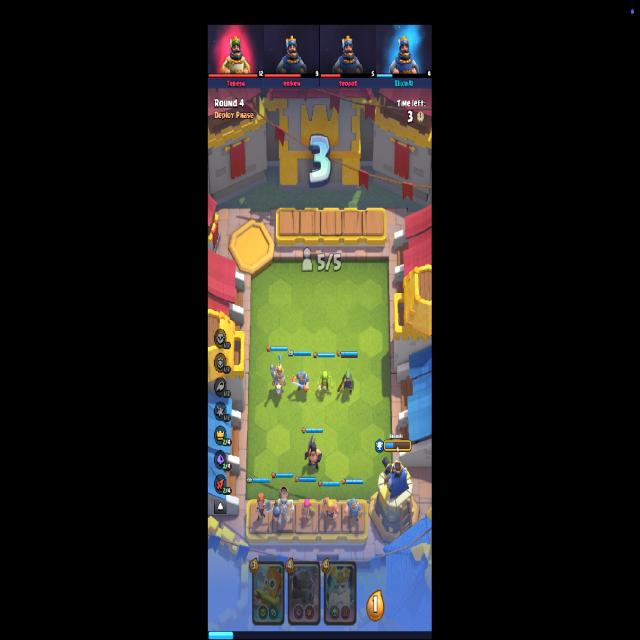archer: (299, 499, 316, 522)
bandit: (337, 368, 354, 398)
barbarian: (316, 496, 339, 524)
card_dart_goblin: (252, 559, 285, 625)
card_mega_knight: (287, 559, 321, 627)
card_royal_ghost: (324, 560, 357, 627)
executioner: (304, 434, 322, 472)
giant_skeleton: (272, 486, 294, 525)
goblin: (315, 370, 334, 395)
knight: (343, 498, 368, 526), (290, 370, 310, 394)
prince: (270, 354, 286, 396)
valkyrie: (254, 492, 272, 524)
